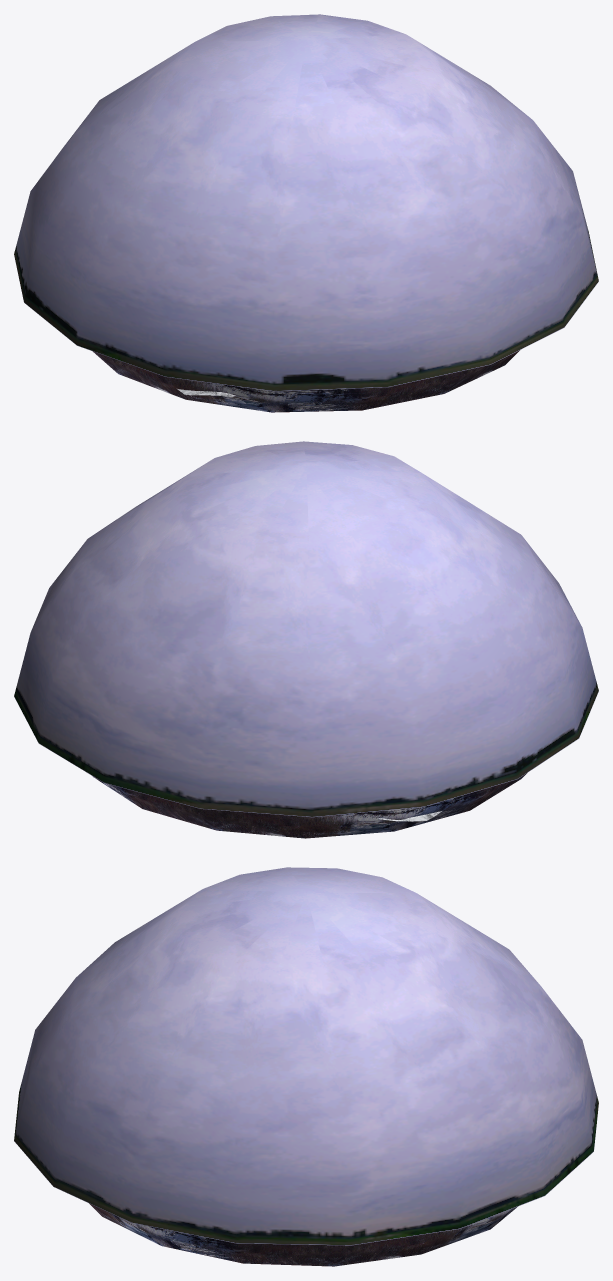
The model's file is Static_Scene.fbx.
3 renders of one model, top to bottom at view 1: azimuth 30°, elevation 25°; view 2: azimuth 150°, elevation 25°; view 3: azimuth 270°, elevation 25°, orthographic.
Parts seen in each view (by area): view 1: sky, mountain; view 2: sky, mountain; view 3: sky, mountain.
Part boxes in pixels (bbox=[...]): sky: bbox=[14, 14, 598, 391]; mountain: bbox=[93, 350, 519, 412]; sky: bbox=[14, 441, 598, 817]; mountain: bbox=[92, 773, 526, 838]; sky: bbox=[14, 867, 598, 1245]; mountain: bbox=[89, 1203, 517, 1266].
Bounding box in the file's own units: 356 × 186 × 356.
Materials: 9 (9 with a texture image).
